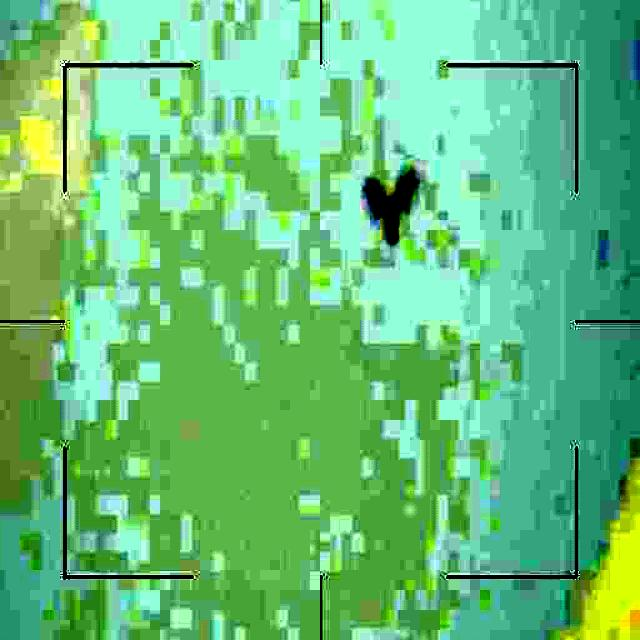bird: (365, 170, 421, 245)
